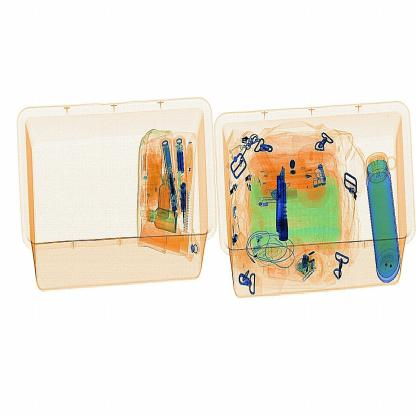pliers: (270, 166, 294, 244)
